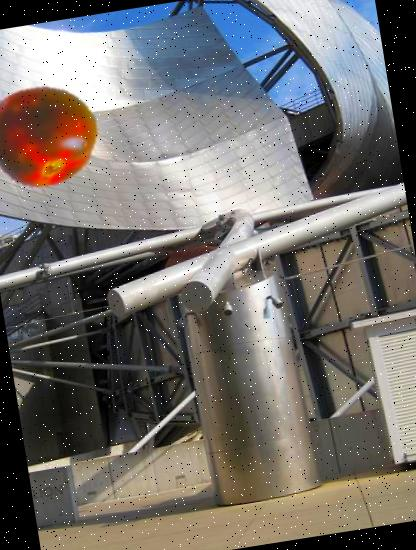Tomato: (0, 73, 108, 199)
